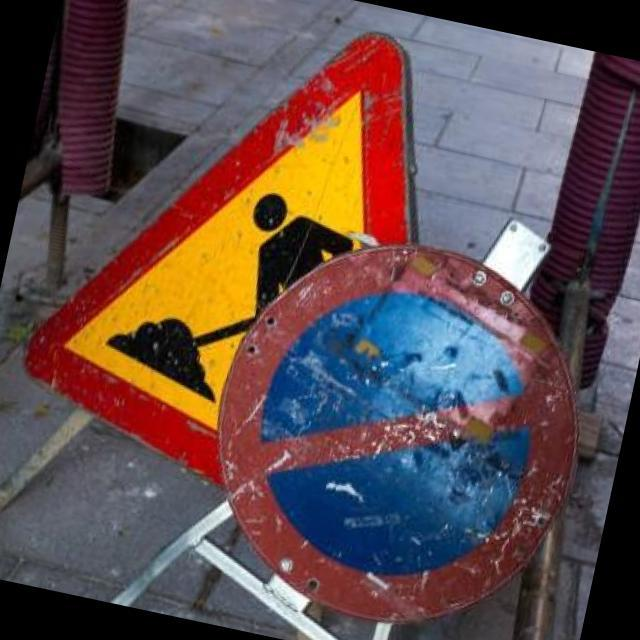obstructed_road_sign: (26, 35, 408, 482), (221, 246, 577, 622)
